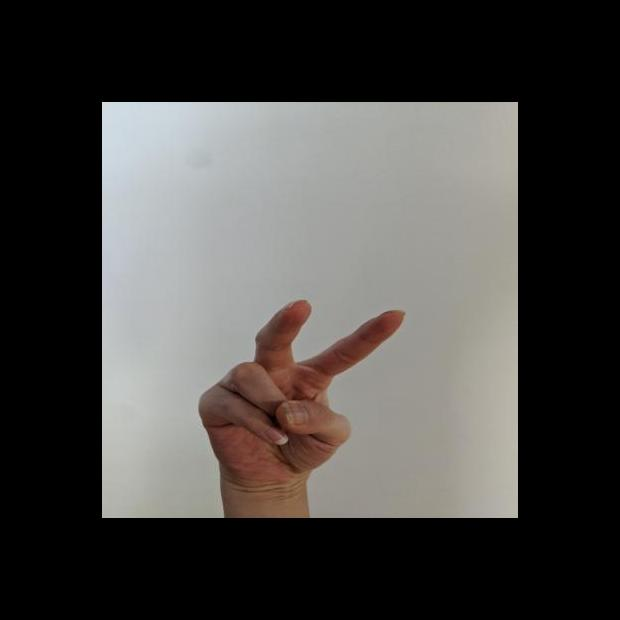U: (195, 297, 410, 490)
